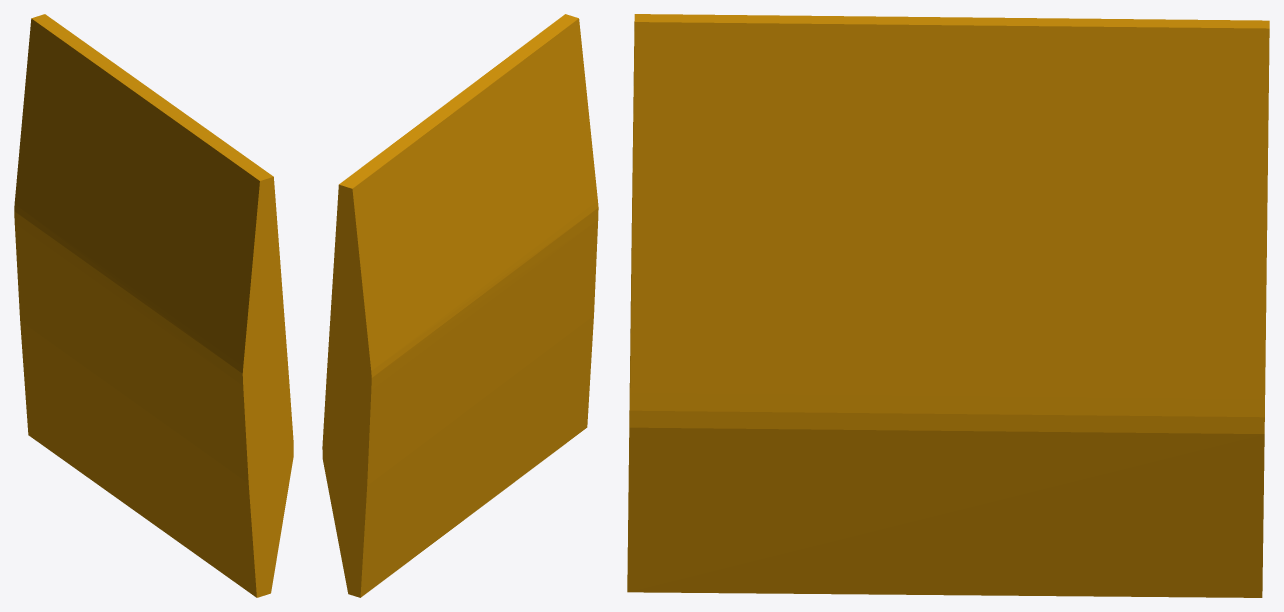
Rendered from converted_Downdraft_Assy_collision_5_d99604ff.obj.
3 views of the same model, side by side, from view 1: azimuth 30°, elevation 25°; view 2: azimuth 150°, elevation 25°; view 3: azimuth 270°, elevation 25° (orthographic). The views are drawn at different scales.
Size of the model in its own units: 0.0648 by 0.5133 by 0.5134.
